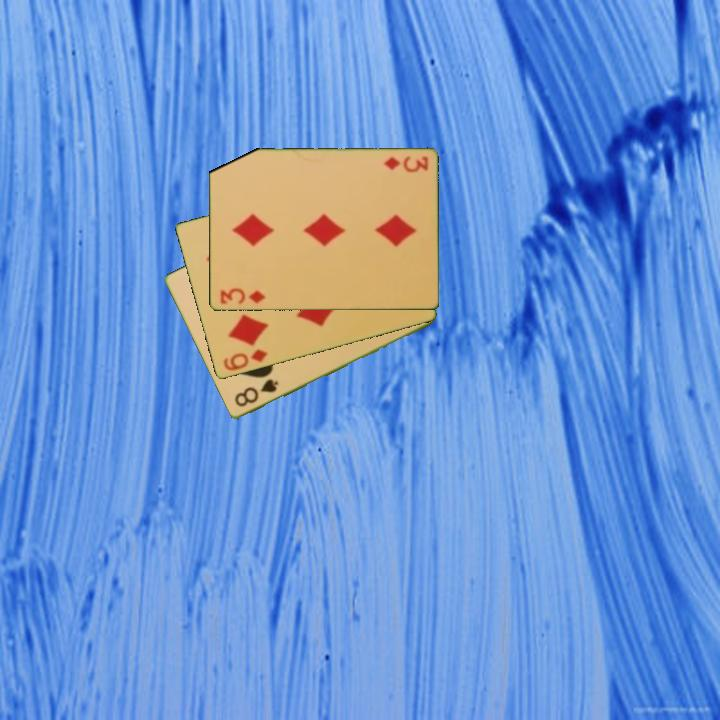3d: (217, 285, 268, 307), (380, 153, 430, 174)
6d: (220, 346, 270, 374)
8s: (231, 376, 281, 410)
